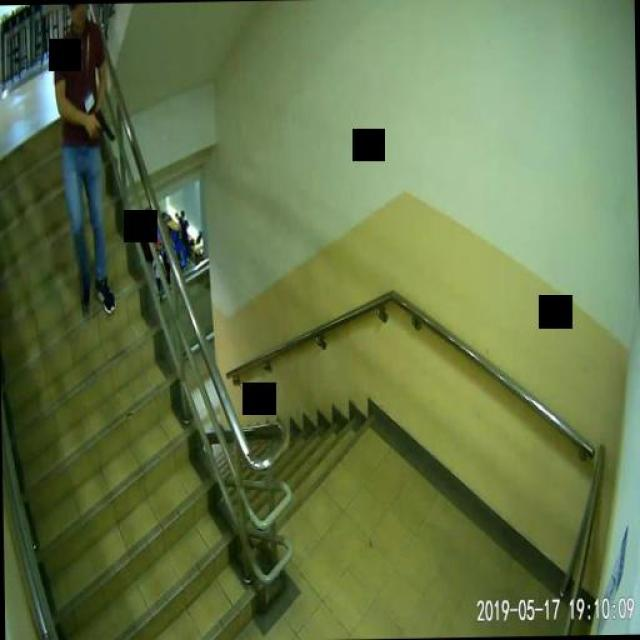gun: (90, 106, 112, 140)
